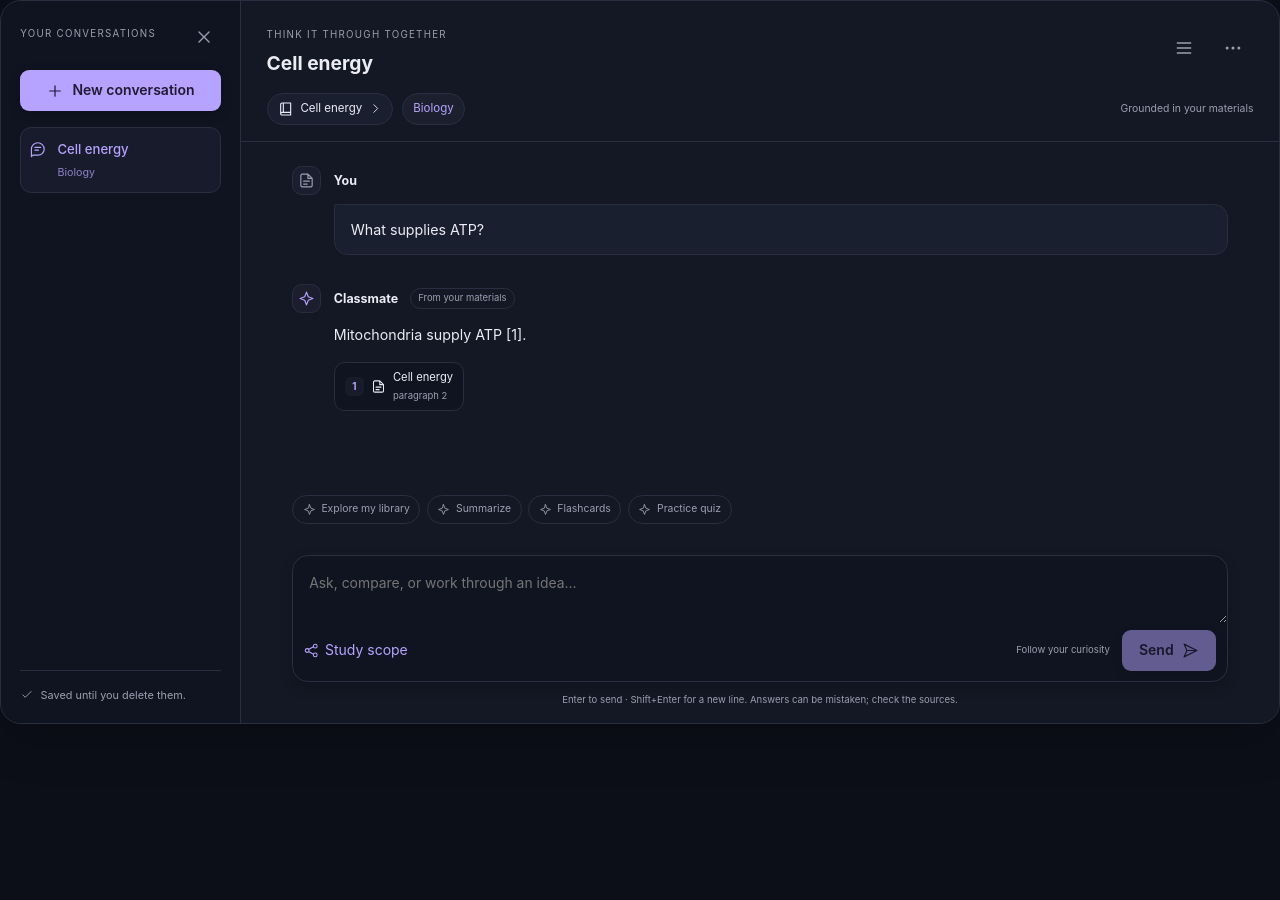
Scenario: Complete study-chat interface › loads saved history and opens a verified source preview
Expected: the text "Mitochondria supply ATP [1]." is shown, [334, 326, 526, 343]
Click the button "1 Cell energy paragraph 2": [399, 386] box [334, 362, 464, 411]
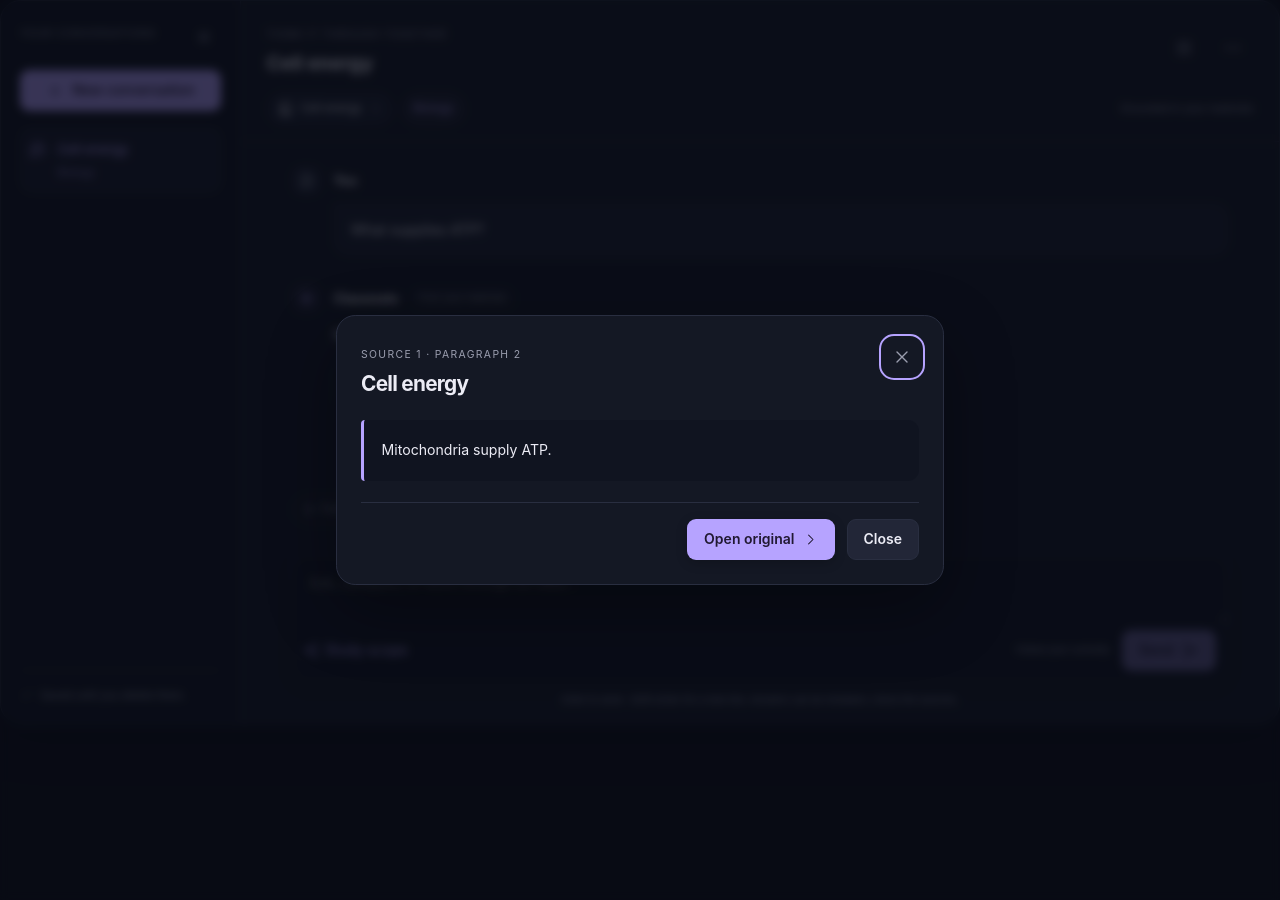
Now the text "Mitochondria supply ATP." is shown, box [361, 420, 919, 481]
